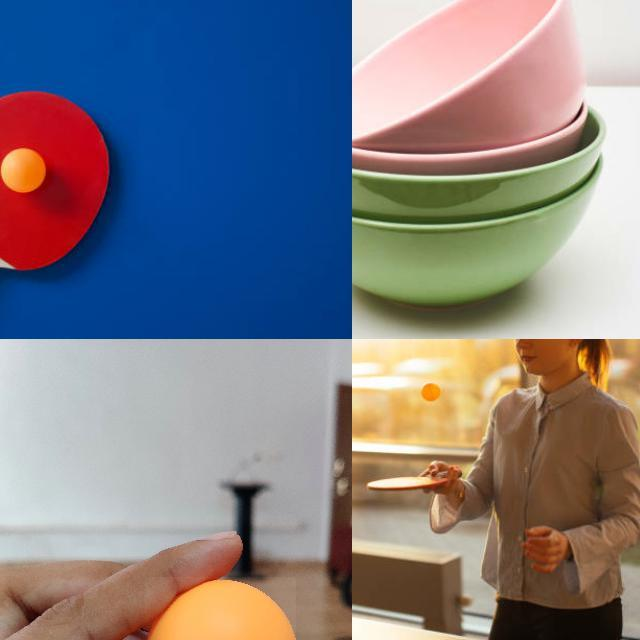ping-pong-ball: (145, 577, 298, 639), (2, 150, 44, 190), (421, 384, 439, 402)
